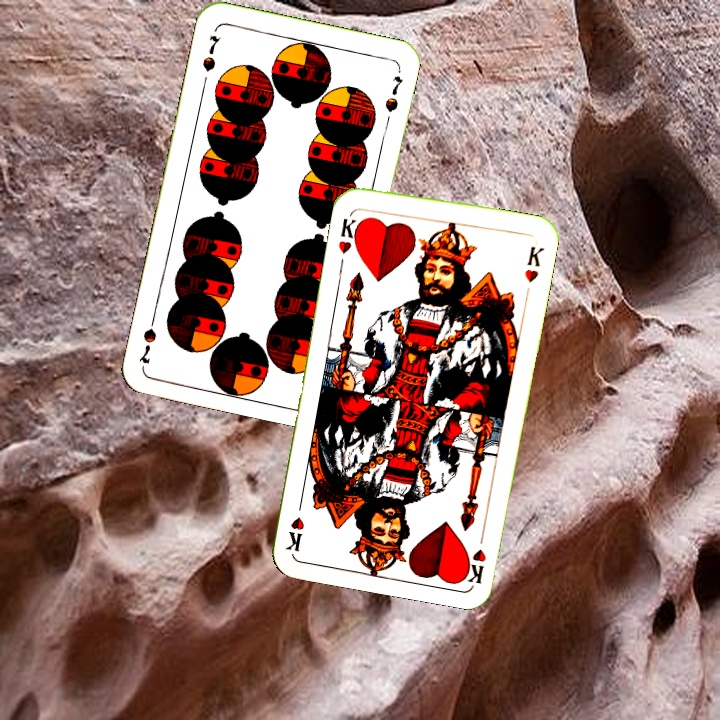HK: (462, 525, 489, 585), (334, 207, 365, 257)
S7: (198, 31, 224, 74)
